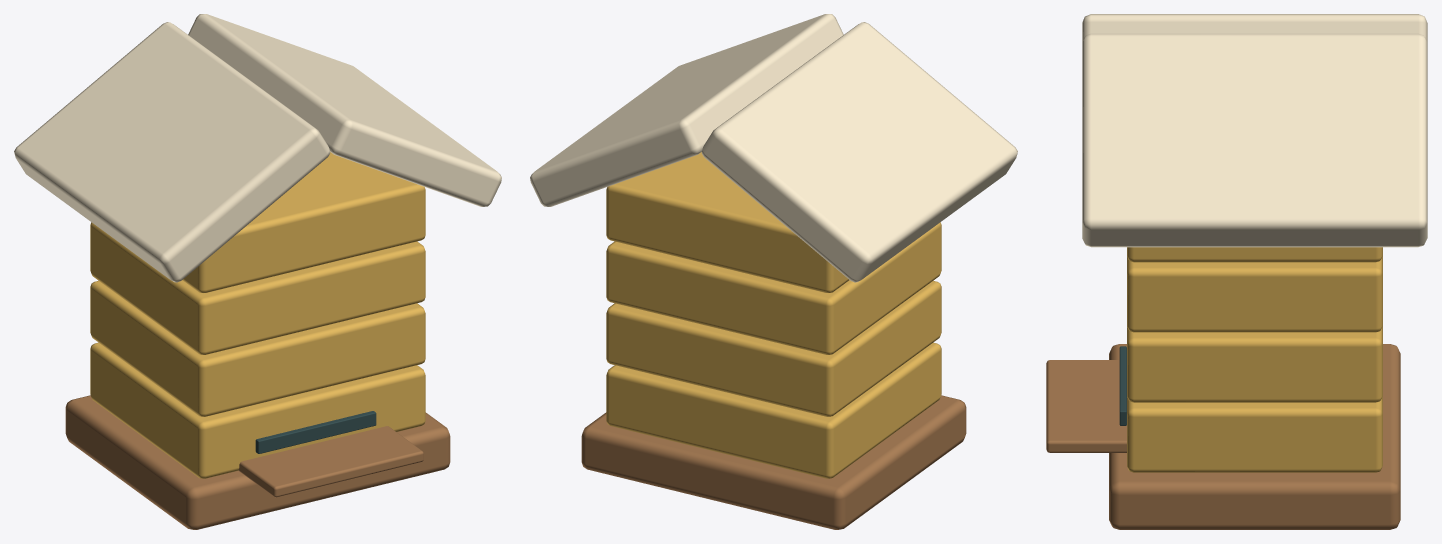
File: almanac-gardens-beehive-cf197a14__22077.glb
3 renders of one model, left to right at view 1: azimuth 30°, elevation 25°; view 2: azimuth 150°, elevation 25°; view 3: azimuth 270°, elevation 25°, orthographic. The views are drawn at different scales.
Parts seen in each view (by area): view 1: beehive-gold, beehive-ivory, beehive-oak, beehive-iron; view 2: beehive-gold, beehive-ivory, beehive-oak; view 3: beehive-ivory, beehive-gold, beehive-oak, beehive-iron.
Part boxes in pixels (box(x1,y1,x2,y2)): beehive-gold: box(90, 152, 425, 478); beehive-ivory: box(14, 14, 501, 282); beehive-oak: box(65, 395, 450, 529); beehive-iron: box(255, 411, 376, 453); beehive-gold: box(606, 152, 941, 478); beehive-ivory: box(530, 14, 1017, 282); beehive-oak: box(581, 395, 966, 529); beehive-ivory: box(1082, 14, 1427, 247); beehive-gold: box(1127, 247, 1382, 472); beehive-oak: box(1046, 344, 1400, 529); beehive-iron: box(1119, 346, 1126, 425).
Size of the model in its own units: 0.7507 by 0.8088 by 0.64.
